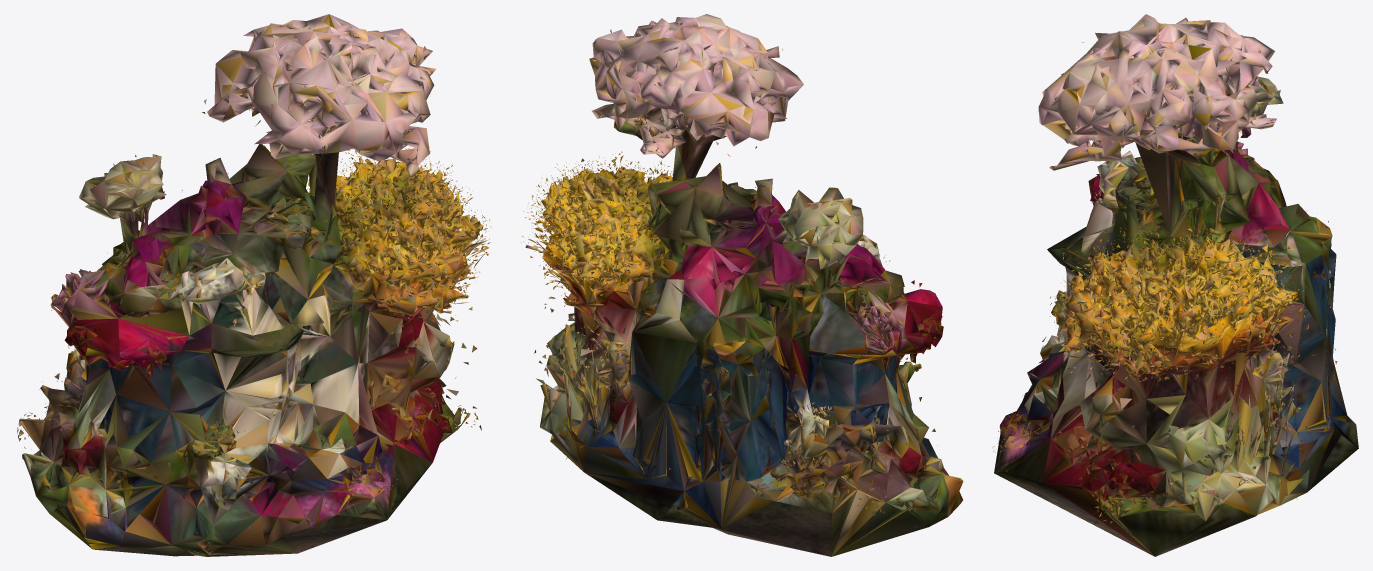
The model's file is Floating_Isle_of_Blos.glb.
3 renders of one model, left to right at view 1: azimuth 30°, elevation 25°; view 2: azimuth 150°, elevation 25°; view 3: azimuth 270°, elevation 25°, orthographic. The views are drawn at different scales.
Visible parts, largest first — view 1: Floating_Isle_of_Blos; view 2: Floating_Isle_of_Blos; view 3: Floating_Isle_of_Blos.
Part boxes in pixels (x1,y1,x2,y2): Floating_Isle_of_Blos: (17, 14, 491, 556); Floating_Isle_of_Blos: (522, 14, 963, 556); Floating_Isle_of_Blos: (992, 14, 1358, 556).
Size of the model in its own units: 1.58 by 1.81 by 1.1.
1 material, 1 textured.
